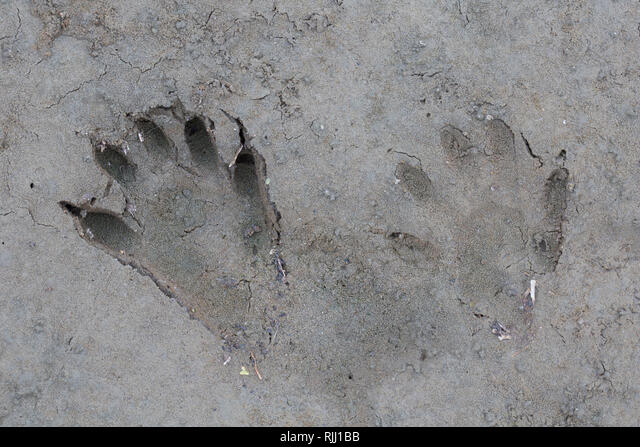raccoon: (39, 73, 309, 393), (362, 96, 608, 344)
